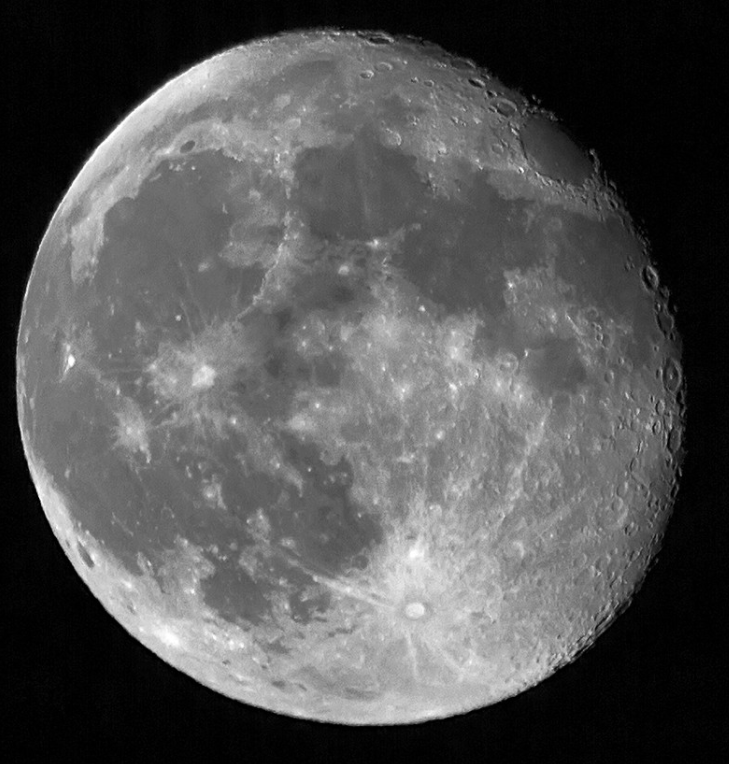crater: (319, 523, 497, 688), (145, 298, 279, 445), (78, 390, 187, 482), (44, 322, 93, 386), (369, 119, 413, 166), (435, 44, 495, 78), (636, 257, 664, 303), (488, 347, 524, 382), (480, 96, 518, 126), (325, 252, 360, 283), (301, 392, 333, 422), (407, 297, 441, 322), (111, 573, 144, 595), (598, 362, 622, 392), (353, 63, 378, 88), (174, 137, 202, 158)
